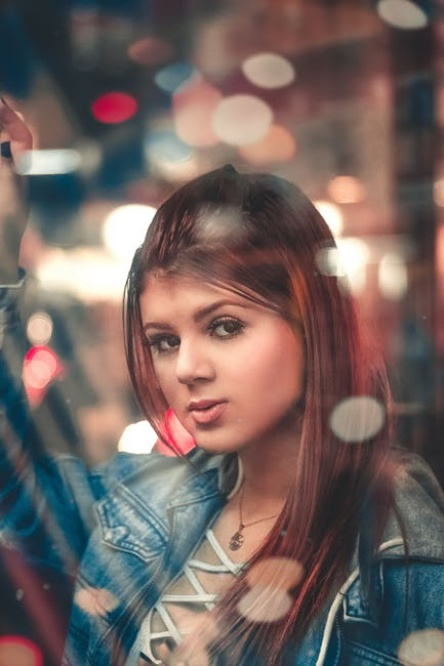face: (140, 271, 305, 451)
